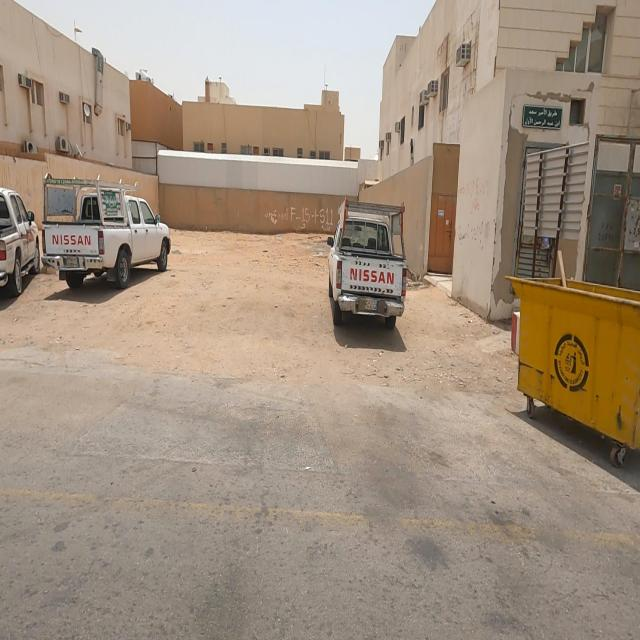Graffiti: (459, 181, 490, 252), (265, 208, 336, 235)
